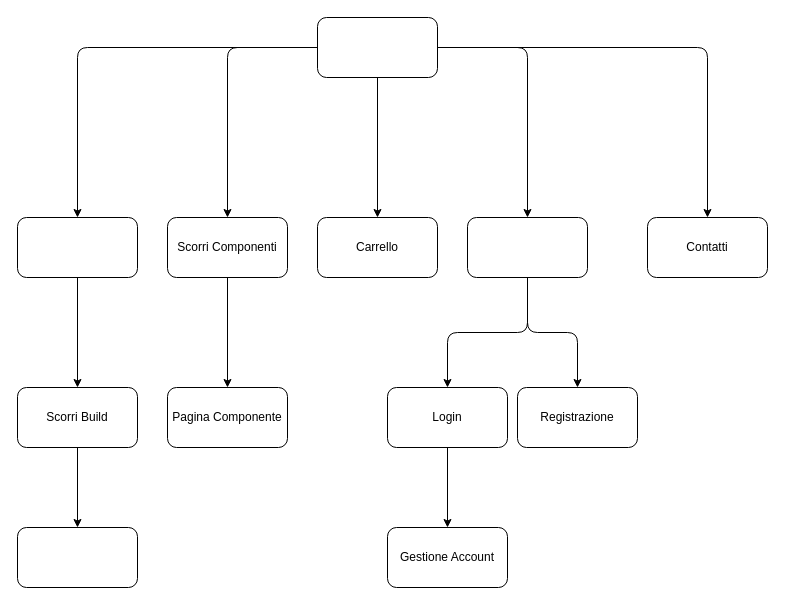
Image size: 785x605. Some labels were removed from this diagram. The centre of each missing label's shape, as x and y in pixels:
"Crea Build" belongs at [77,247].
"Gestione profilo" belongs at [527,247].
"Homepage & About Us" belongs at [377,47].
"Pagina Build" belongs at [77,557].
